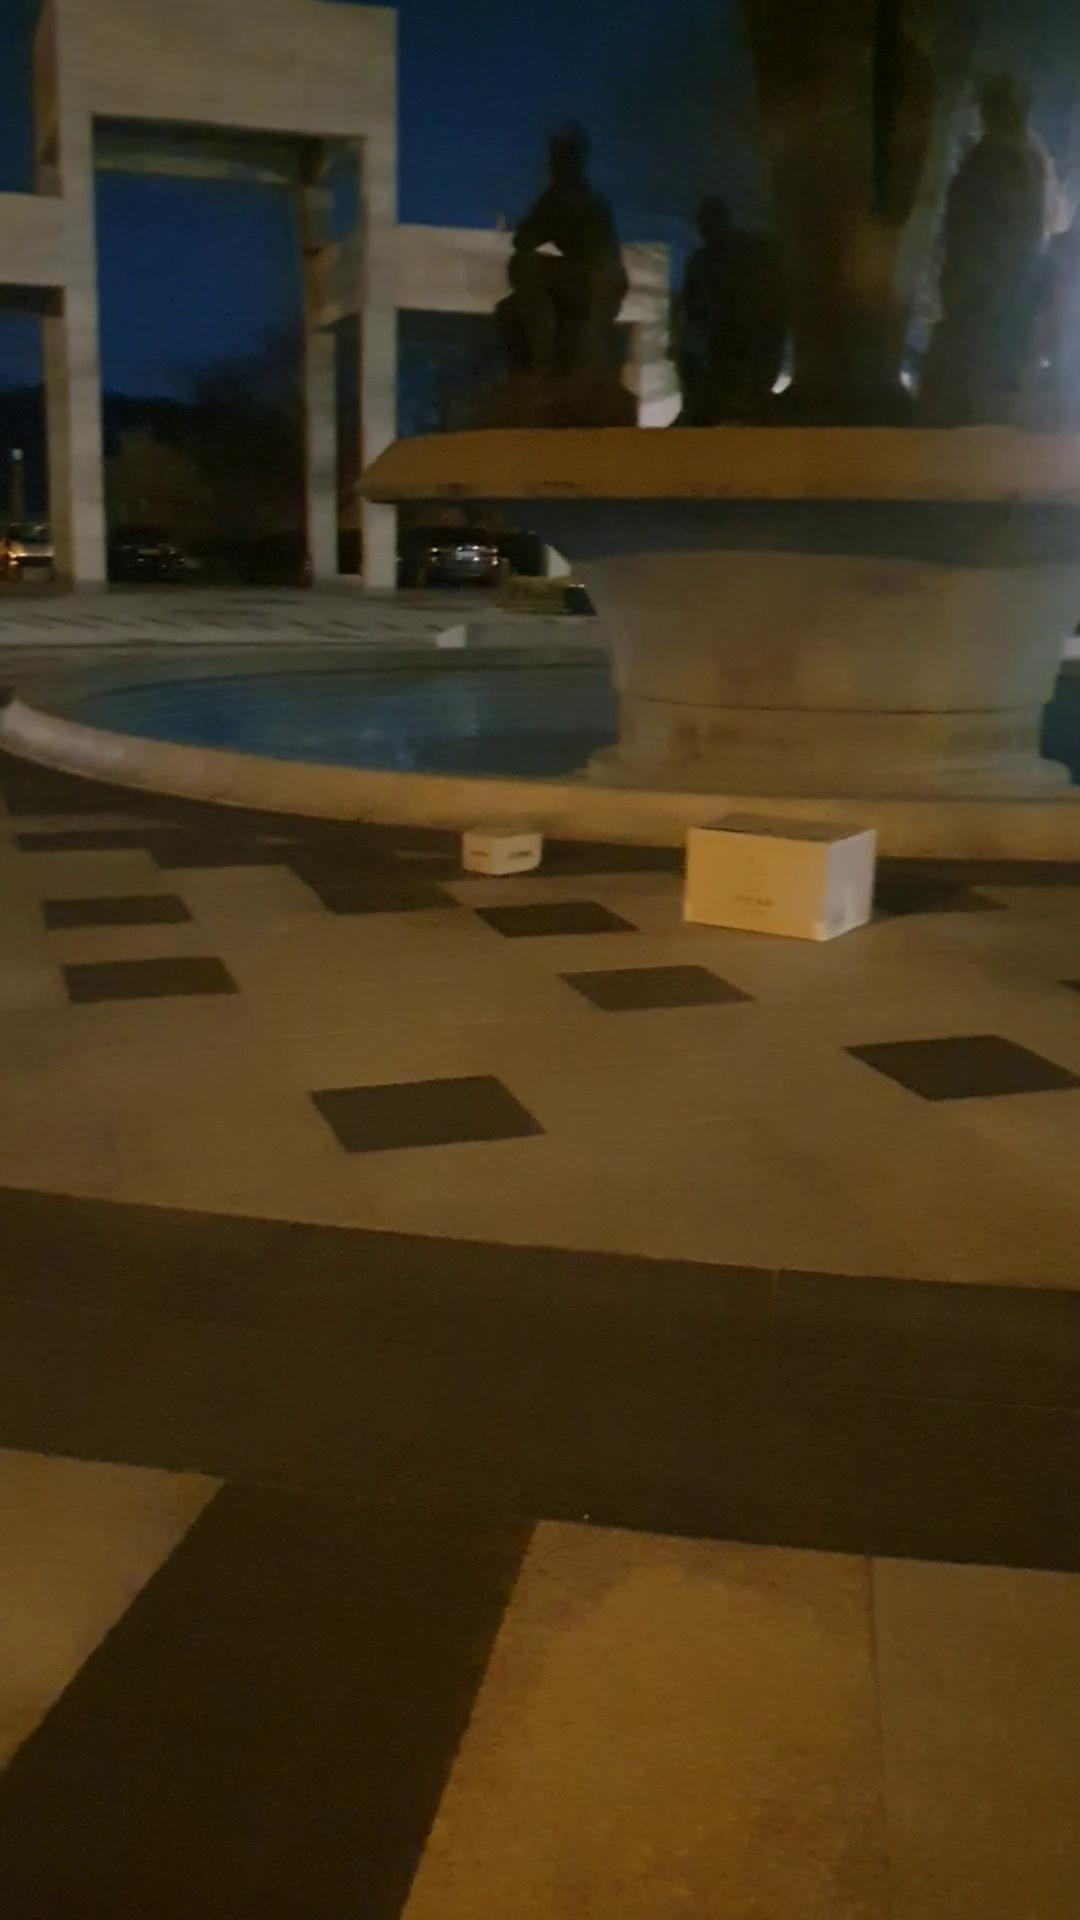Box: (669, 798, 882, 955), (448, 798, 560, 890)
